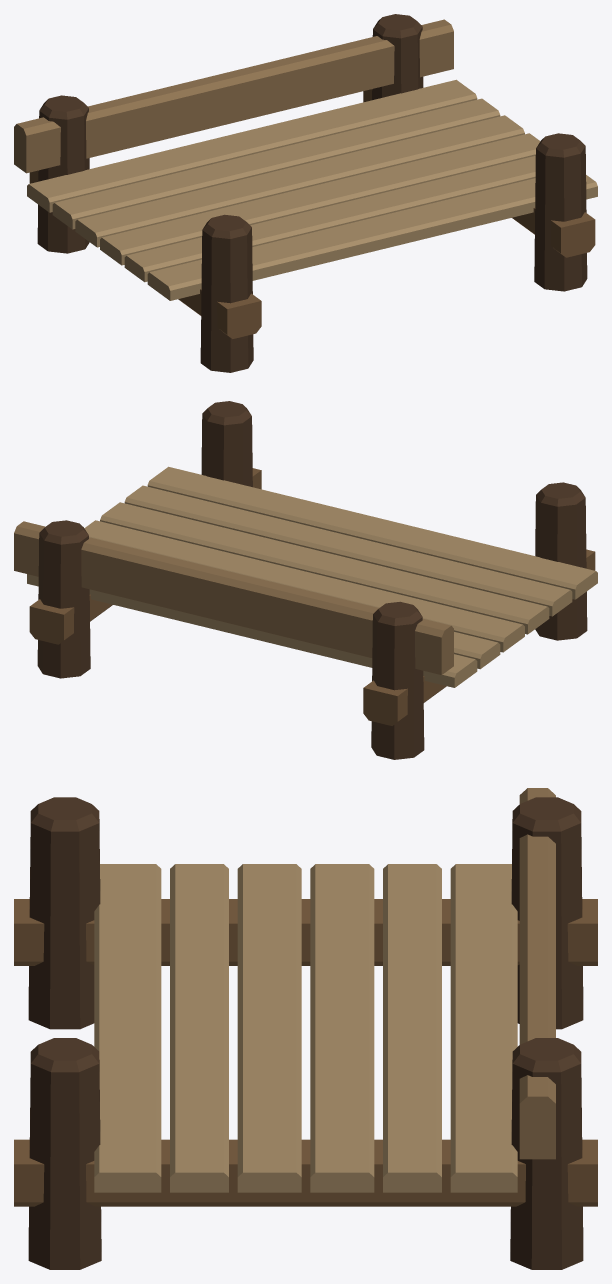
Rendered from dock-platform-section.glb.
3 renders of one model, top to bottom at view 1: azimuth 30°, elevation 25°; view 2: azimuth 150°, elevation 25°; view 3: azimuth 270°, elevation 25°, orthographic. The views are drawn at different scales.
Visible parts, largest first — view 1: dock; view 2: dock; view 3: dock.
Boxes of the visible parts, x1,y1,x2,y2 form: dock: (14, 14, 597, 372); dock: (14, 401, 597, 759); dock: (14, 788, 597, 1269).
Size of the model in its own units: 2 by 0.62 by 1.6.
